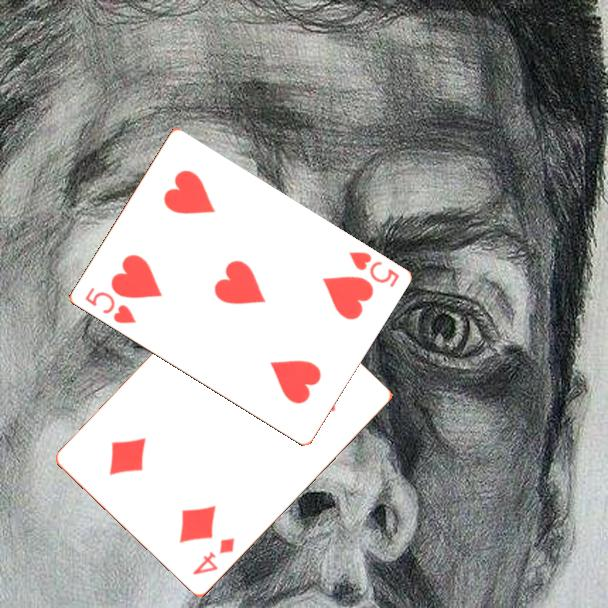d04: (189, 534, 238, 578)
h05: (81, 284, 139, 327), (345, 248, 402, 290)
